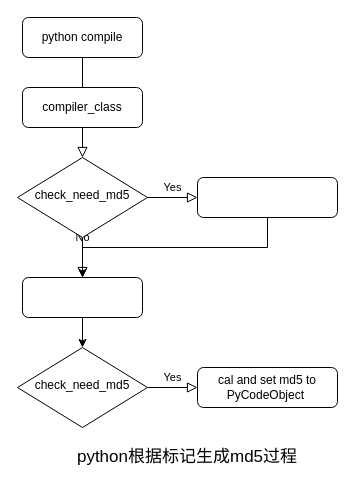
Some shapes in this 355 by 485 pixel diagram are drawn without their labels. Here are the shapes that lost their labels. From the top down, the centre of each, then its label:
the point at 267,197: compiler_unit: need_md5=true
the point at 82,297: compiler_function
